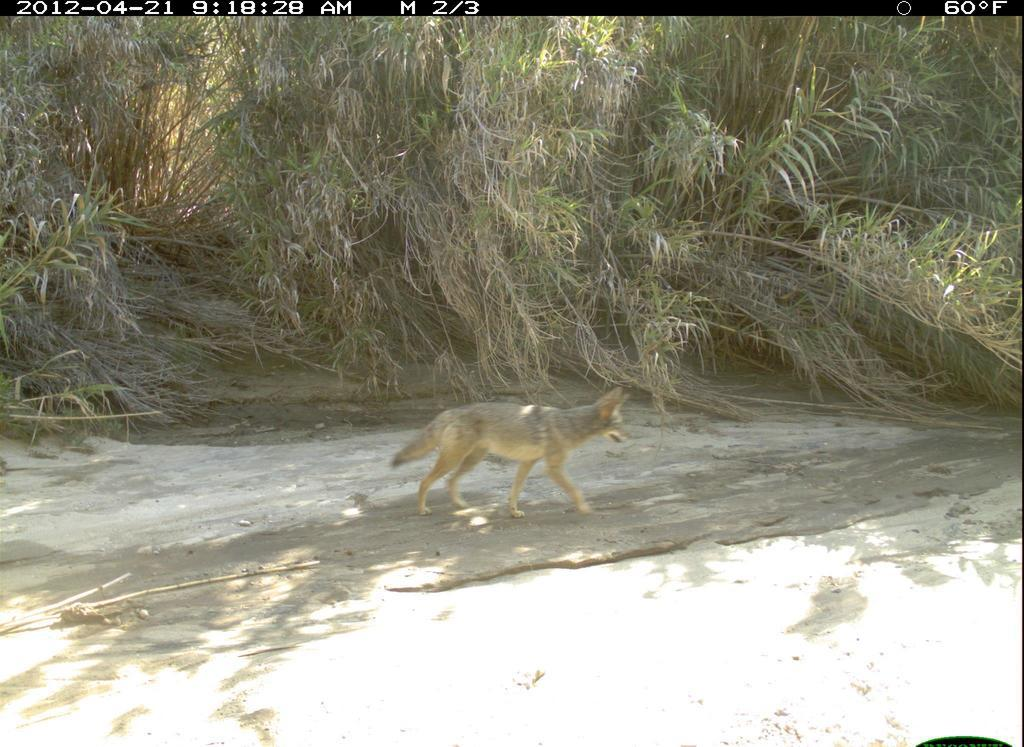coyote: (388, 378, 647, 533)
